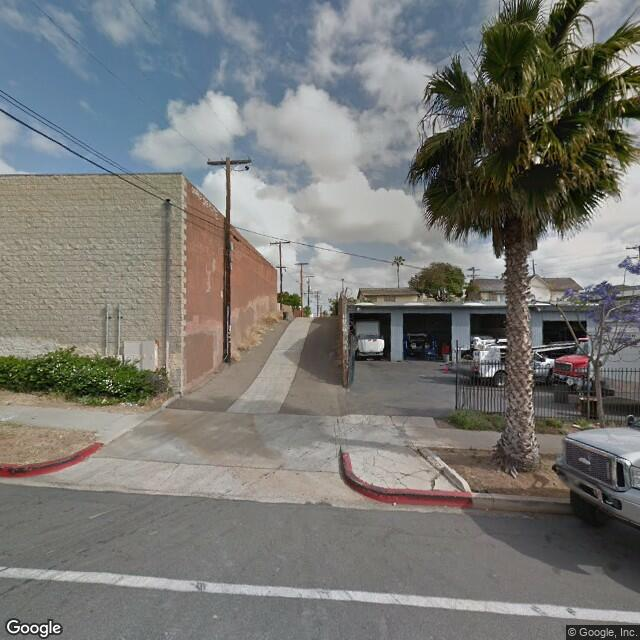litter: (389, 499, 401, 507)
